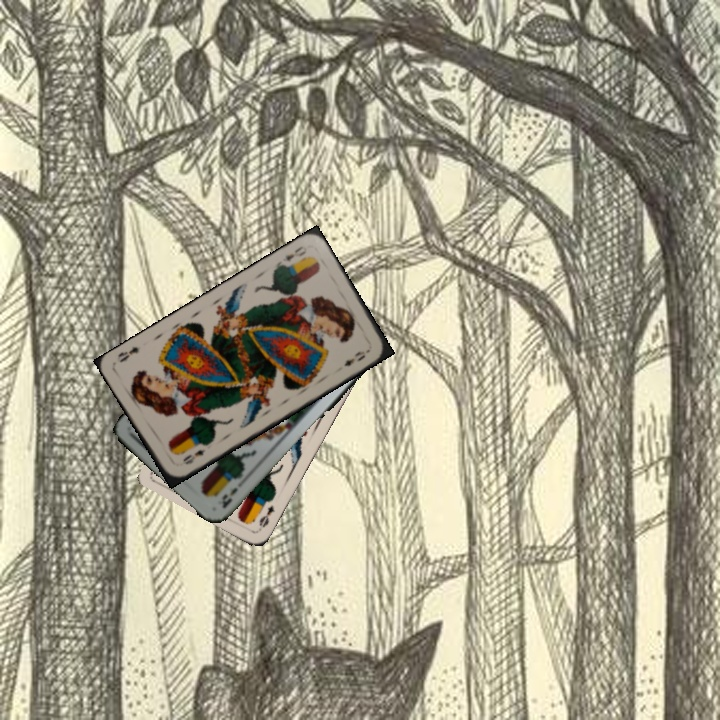EK: (217, 483, 240, 511)
EO: (274, 241, 309, 270), (254, 501, 277, 533), (179, 445, 208, 467)
